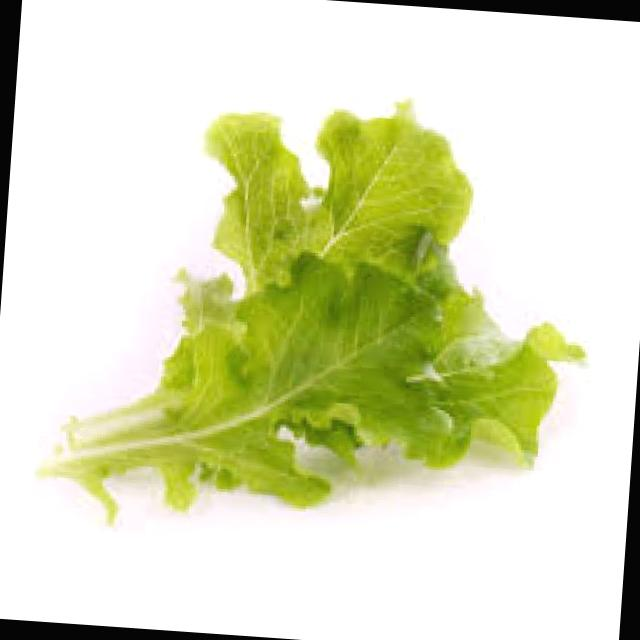Lettuce-Ready-to-Harvest: (44, 104, 582, 519)
